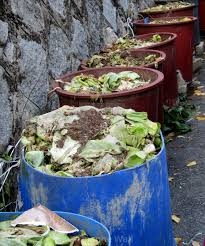kitchen_waste: (27, 103, 156, 172), (10, 199, 77, 232), (72, 71, 152, 92), (95, 51, 157, 65)
